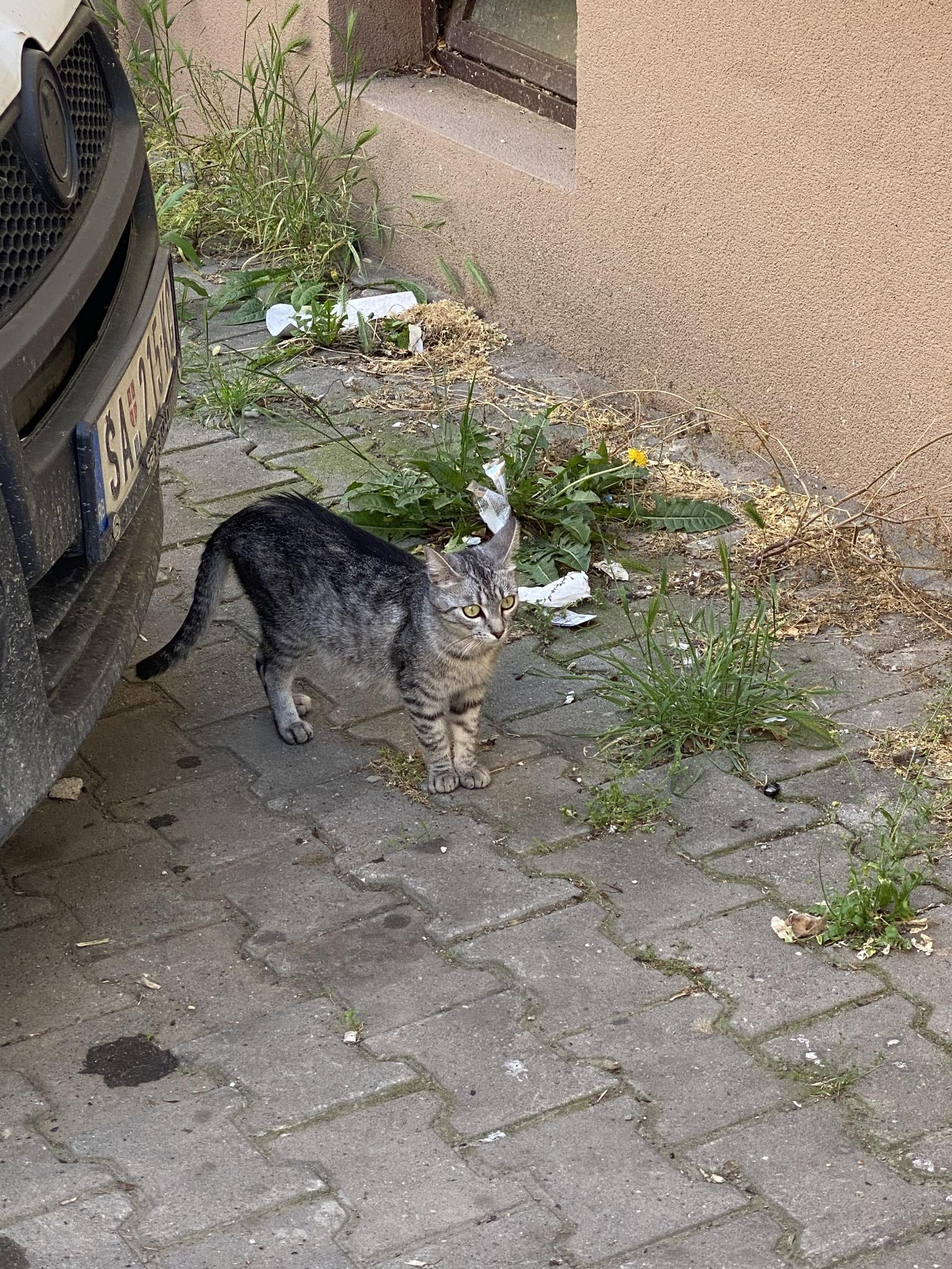macka: (133, 493, 523, 796)
